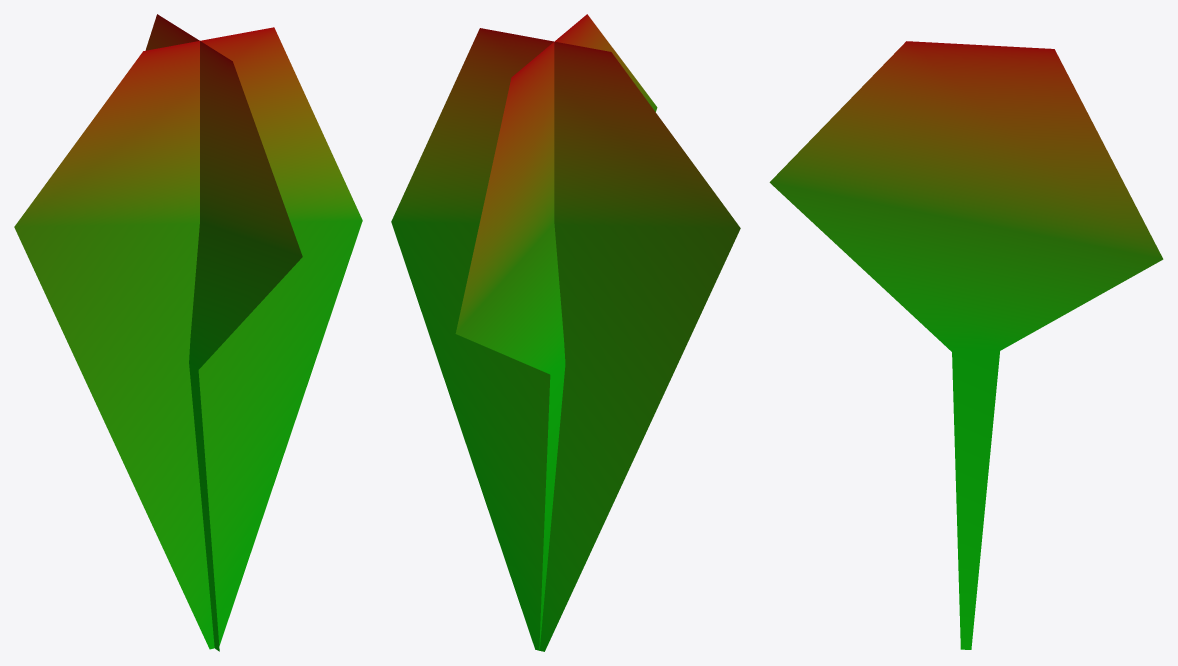
The model's file is Var10_LOD5.fbx.
3 views of the same model, side by side, from view 1: azimuth 30°, elevation 25°; view 2: azimuth 150°, elevation 25°; view 3: azimuth 270°, elevation 25° (orthographic). The views are drawn at different scales.
Visible parts, largest first — view 1: _r7w2_Var10_LOD5; view 2: _r7w2_Var10_LOD5; view 3: _r7w2_Var10_LOD5.
Part boxes in pixels (<box>): _r7w2_Var10_LOD5: <box>14,14,362,651</box>; _r7w2_Var10_LOD5: <box>391,14,740,651</box>; _r7w2_Var10_LOD5: <box>769,41,1163,649</box>.
Bounding box in the file's own units: 30.85 × 51.98 × 30.85.
